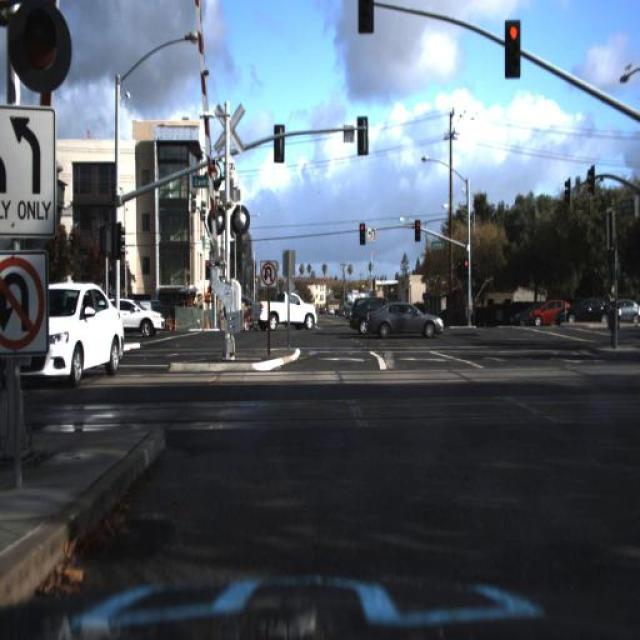car: (8, 274, 130, 378), (12, 283, 126, 382), (365, 296, 444, 342), (248, 288, 318, 336), (520, 285, 574, 340), (98, 295, 164, 339), (556, 293, 622, 329), (529, 296, 575, 330), (572, 293, 604, 328), (606, 292, 638, 324)
trafficLight-Green: (11, 2, 69, 88), (356, 1, 376, 34)
trafficLight-RedLeft: (503, 18, 522, 78), (412, 213, 423, 246), (462, 252, 471, 284), (358, 218, 367, 248)
